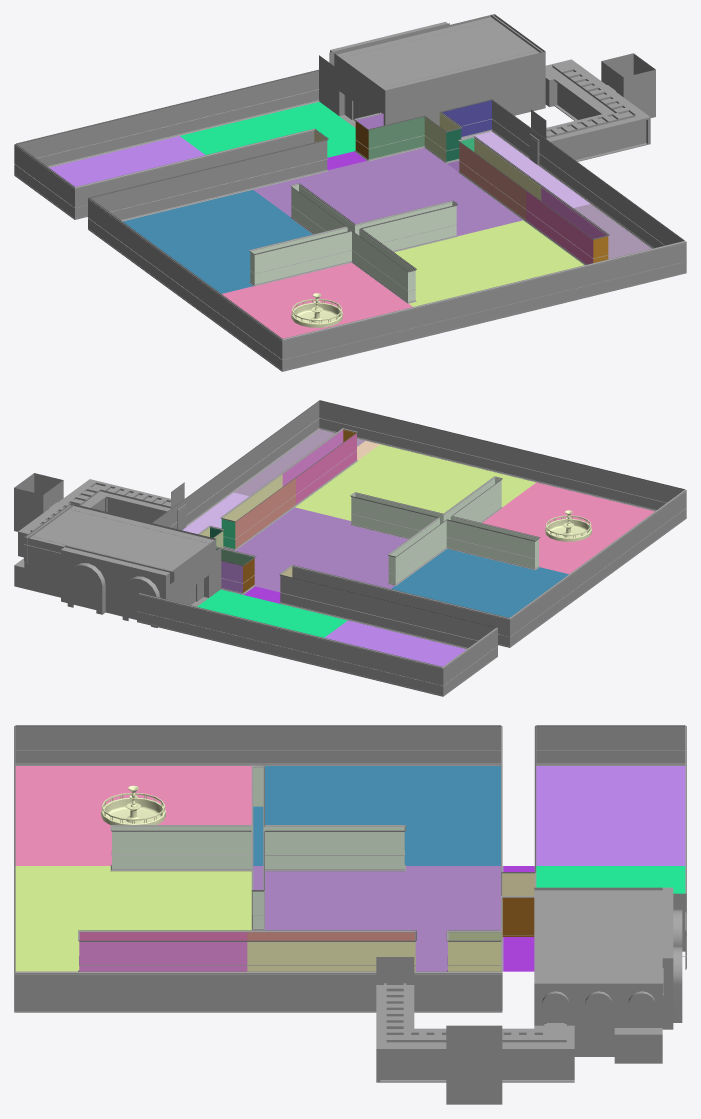
Rendered from Level2.2.fbx.
3 views of the same model, one above another, from view 1: azimuth 30°, elevation 25°; view 2: azimuth 150°, elevation 25°; view 3: azimuth 270°, elevation 25° (orthographic). The views are drawn at different scales.
Visible parts, largest first — view 1: polySurface12, polySurface8, polySurface15, polySurface17, Level1polySurface68, Level1polySurface75, polySurface6, polySurface53, polySurface11, polySurface14, polySurface55, polySurface47 (+37 smaller); view 2: polySurface8, polySurface17, polySurface12, polySurface6, polySurface15, Level1polySurface68, Level1polySurface77, polySurface55, polySurface11, polySurface14, polySurface53, polySurface47 (+35 smaller); view 3: polySurface15, polySurface17, polySurface12, polySurface6, polySurface14, polySurface8, Level1polySurface68, Level1polySurface78, polySurface28, polySurface58, polySurface42, polySurface44 (+28 smaller).
Boxes of the visible parts, x1,y1,x2,y2 form: polySurface12: (253, 148, 522, 235); polySurface8: (250, 184, 456, 301); polySurface15: (123, 190, 312, 293); polySurface17: (394, 220, 584, 306); Level1polySurface68: (336, 16, 542, 90); Level1polySurface75: (385, 51, 545, 126); polySurface6: (222, 263, 412, 338); polySurface53: (91, 140, 327, 219); polySurface11: (180, 102, 355, 157); polySurface14: (49, 136, 205, 186); polySurface55: (75, 130, 314, 219); polySurface47: (484, 266, 585, 322); polySurface8: (351, 478, 538, 584); polySurface17: (295, 444, 535, 520); polySurface12: (235, 507, 407, 592); polySurface6: (482, 482, 654, 573); polySurface15: (391, 549, 568, 617); Level1polySurface68: (26, 505, 213, 571); Level1polySurface77: (14, 537, 169, 619); polySurface55: (280, 575, 495, 647); polySurface11: (197, 589, 347, 637); polySurface14: (324, 620, 465, 666); polySurface53: (292, 566, 509, 647); polySurface47: (411, 423, 502, 472); polySurface15: (253, 766, 500, 865); polySurface17: (15, 866, 251, 971); polySurface12: (253, 866, 503, 971); polySurface6: (15, 766, 251, 865); polySurface14: (536, 766, 685, 865); polySurface8: (112, 767, 404, 928); Level1polySurface68: (534, 890, 662, 983); Level1polySurface78: (534, 985, 662, 1056); polySurface28: (535, 726, 686, 763); polySurface58: (79, 942, 247, 971); polySurface42: (14, 973, 136, 1012); polySurface44: (136, 973, 258, 1012).
Bounding box in the file's own units: 146 × 15.39 × 124.
